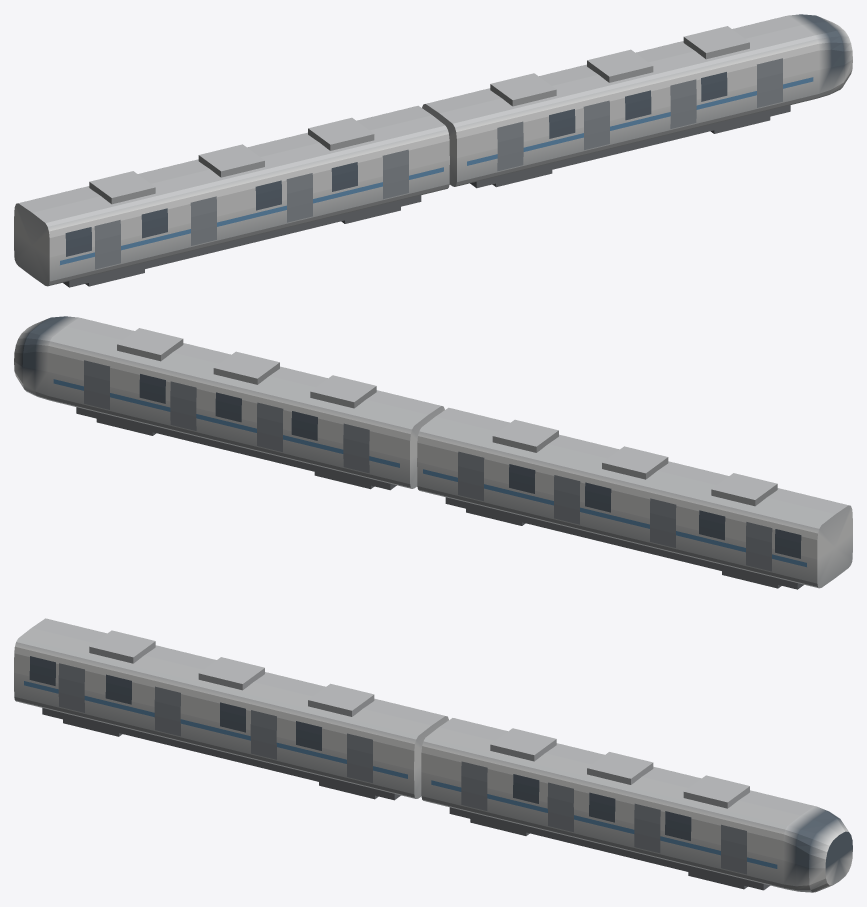
The model's file is 06_more_transit_3x2-04.glb.
3 renders of one model, top to bottom at view 1: azimuth 30°, elevation 25°; view 2: azimuth 150°, elevation 25°; view 3: azimuth 330°, elevation 25°, orthographic.
Size of the model in its own units: 40.36 by 3.88 by 3.14.
